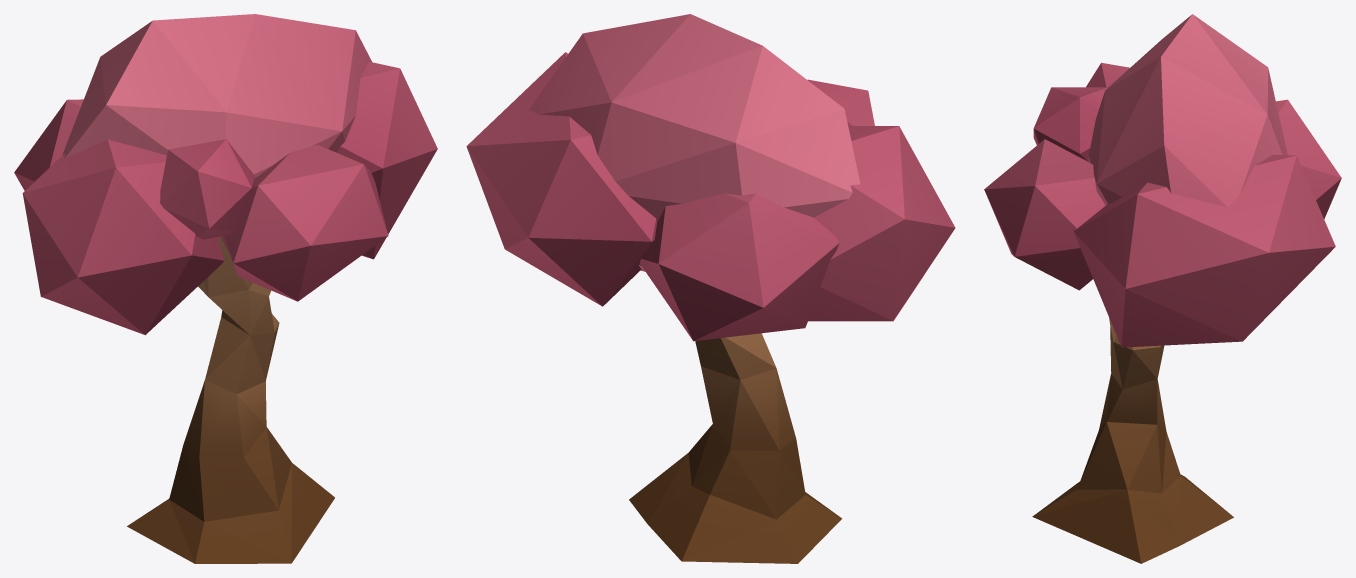
The model's file is Tree_PinkSakura.gltf.
3 views of the same model, side by side, from view 1: azimuth 30°, elevation 25°; view 2: azimuth 150°, elevation 25°; view 3: azimuth 270°, elevation 25° (orthographic). The views are drawn at different scales.
Visible parts, largest first — view 1: Tree_PinkSakura; view 2: Tree_PinkSakura; view 3: Tree_PinkSakura.
Boxes of the visible parts, <box> form: Tree_PinkSakura: <box>14,14,437,563</box>; Tree_PinkSakura: <box>466,14,955,563</box>; Tree_PinkSakura: <box>984,14,1341,563</box>.
Bounding box in the file's own units: 4.46 × 5.5 × 3.74.
1 material, 1 textured.
